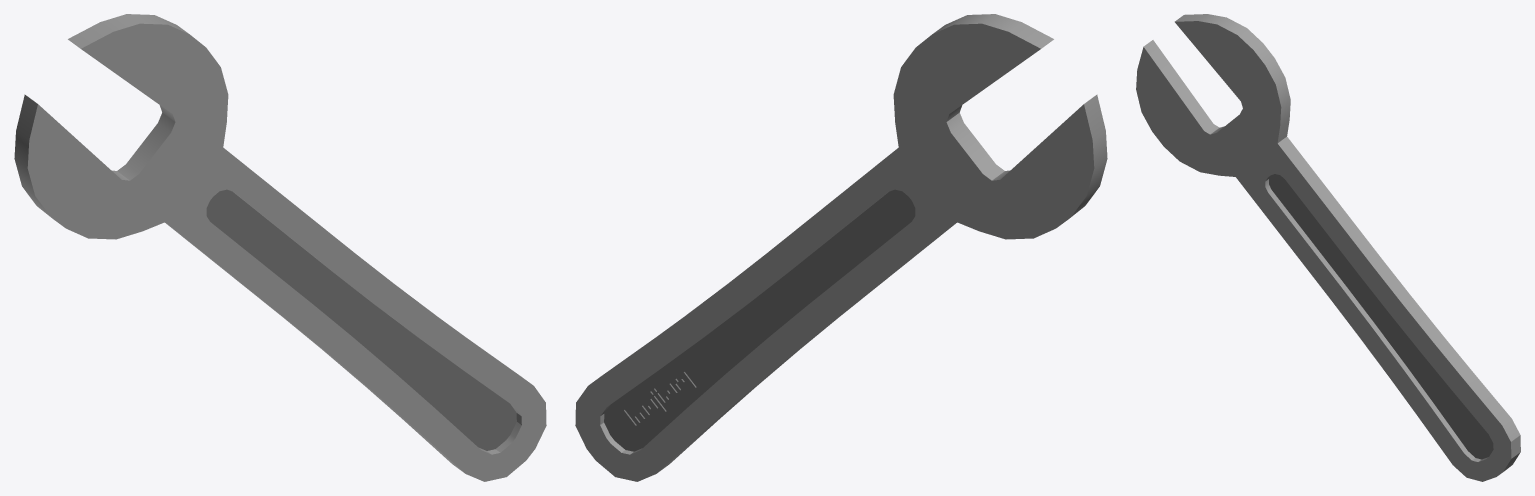
File: wrench.fbx
The picture shows the model from 3 angles, left to right: view 1: azimuth 30°, elevation 25°; view 2: azimuth 150°, elevation 25°; view 3: azimuth 330°, elevation 25°; orthographic projection. The views are drawn at different scales.
Parts seen in each view (by area): view 1: Circle.2587; view 2: Circle.2587; view 3: Circle.2587.
Boxes of the visible parts, box(x1,y1,x2,y2) form: Circle.2587: box(14, 14, 546, 481); Circle.2587: box(575, 14, 1107, 481); Circle.2587: box(1136, 14, 1520, 481).
Size of the model in its own units: 208 by 208 by 9.2.
Materials: 1 (1 with a texture image).
